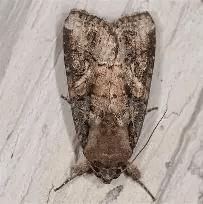army worm adult: (40, 3, 168, 204)
